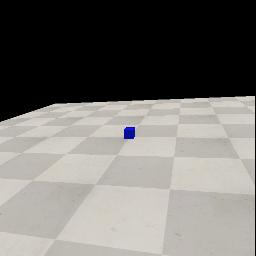box: (124, 127, 135, 139)
